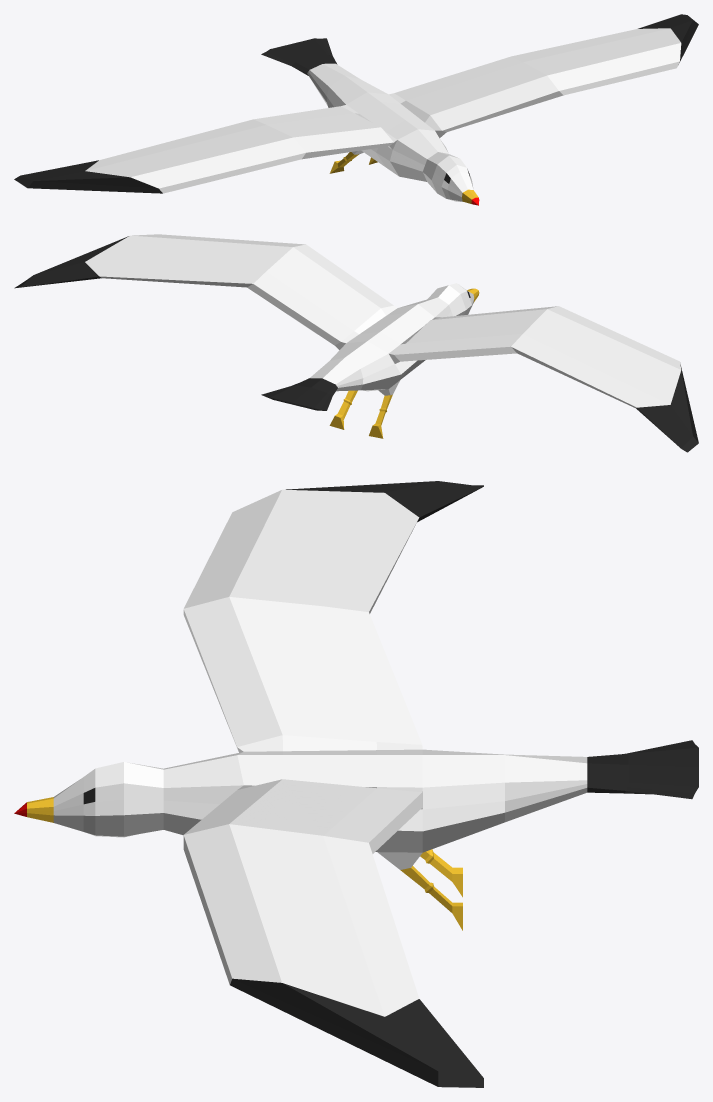
The model's file is seagull.glb.
The picture shows the model from 3 angles, top to bottom: view 1: azimuth 30°, elevation 25°; view 2: azimuth 150°, elevation 25°; view 3: azimuth 270°, elevation 25°; orthographic projection. The views are drawn at different scales.
Parts seen in each view (by area): view 1: Cylinder; view 2: Cylinder; view 3: Cylinder.
Part boxes in pixels (x1=…): Cylinder: x1=14, y1=14, x2=698, y2=205; Cylinder: x1=14, y1=234, x2=698, y2=452; Cylinder: x1=14, y1=481, x2=698, y2=1087.
Size of the model in its own units: 28.08 by 4.31 by 13.49.
Materials: 1 (1 with a texture image).
